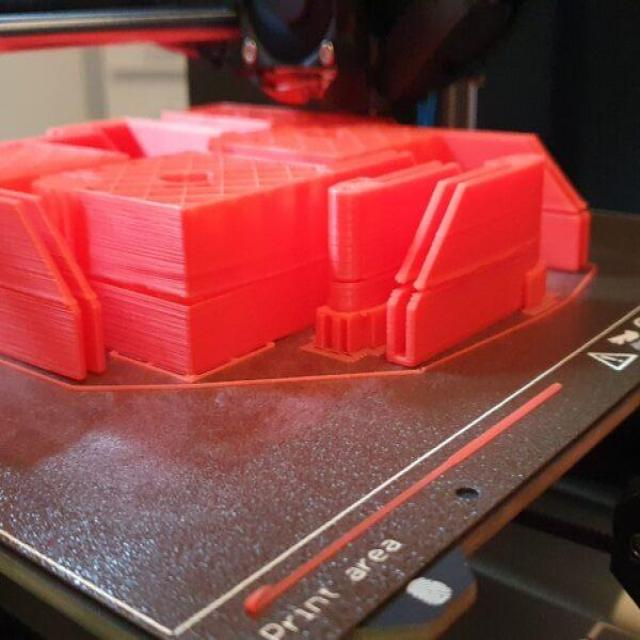cracking: (104, 269, 258, 321), (352, 259, 486, 310), (540, 190, 604, 229)
